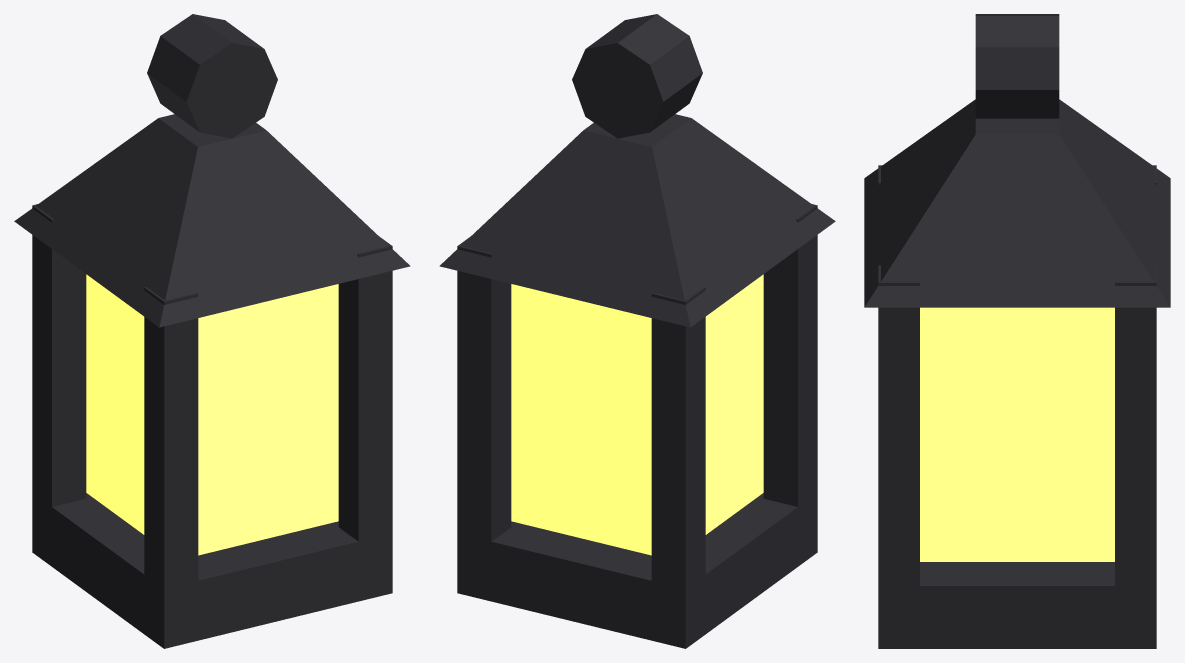
The model's file is Lantern_Small.fbx.
The picture shows the model from 3 angles, left to right: view 1: azimuth 30°, elevation 25°; view 2: azimuth 150°, elevation 25°; view 3: azimuth 270°, elevation 25°; orthographic projection. The views are drawn at different scales.
Visible parts, largest first — view 1: Lantern_Small; view 2: Lantern_Small; view 3: Lantern_Small.
Part boxes in pixels (bbox=[...]): Lantern_Small: bbox=[14, 14, 410, 648]; Lantern_Small: bbox=[439, 14, 835, 648]; Lantern_Small: bbox=[864, 14, 1170, 648].
Bounding box in the file's own units: 0.264 × 0.546 × 0.264.
